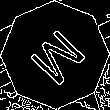M_SE: (21, 21, 89, 89)
